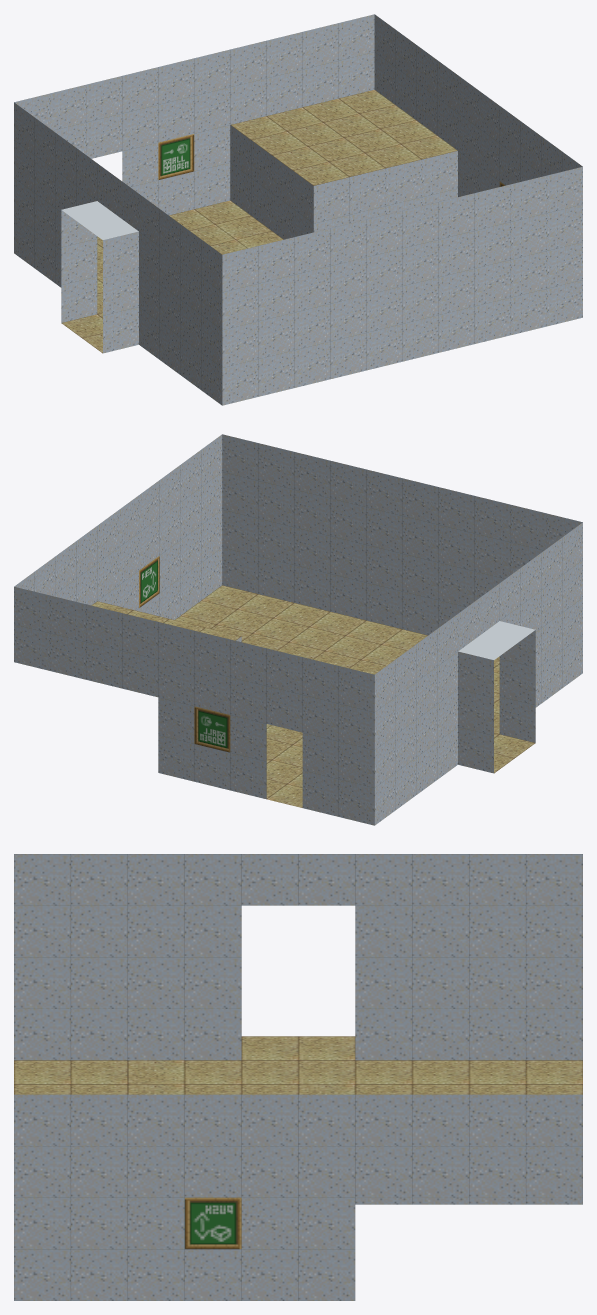
Rendered from geometry-03-room1part1.FBX.
3 renders of one model, top to bottom at view 1: azimuth 30°, elevation 25°; view 2: azimuth 150°, elevation 25°; view 3: azimuth 270°, elevation 25°, orthographic. The views are drawn at different scales.
Visible parts, largest first — view 1: room1-part1; view 2: room1-part1; view 3: room1-part1.
Boxes of the visible parts, x1,y1,x2,y2 form: room1-part1: (14,14,582,405); room1-part1: (14,434,582,825); room1-part1: (14,854,582,1300).
Size of the model in its own units: 220 by 80 by 200.
1 material, 1 textured.
